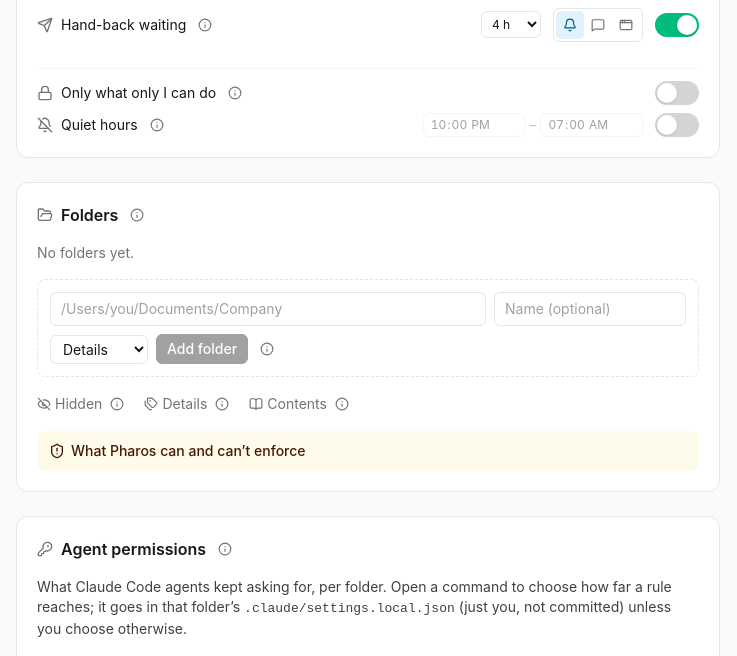
Test: folders › adds a folder with a level and shows the Claude Code rule to copy
(page scrolled)
Check: the text "No folders yet." is shown, box [37,244,134,261]
Type "/Users/me/Company" into the field named "Folder path" at [268, 309], box [50,292,486,326]
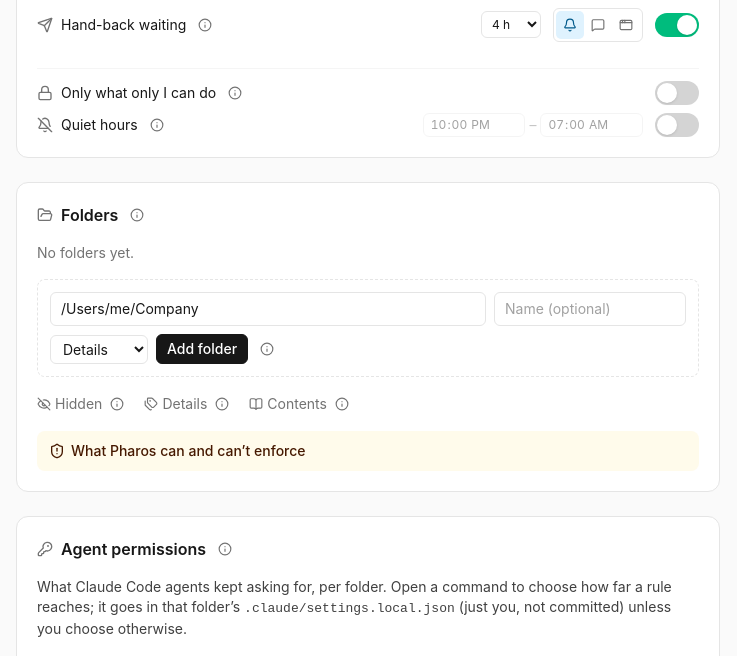
Select "Hidden" in the dropdown named "What agents see in the new folder" at [99, 349], box [50,335,148,364]
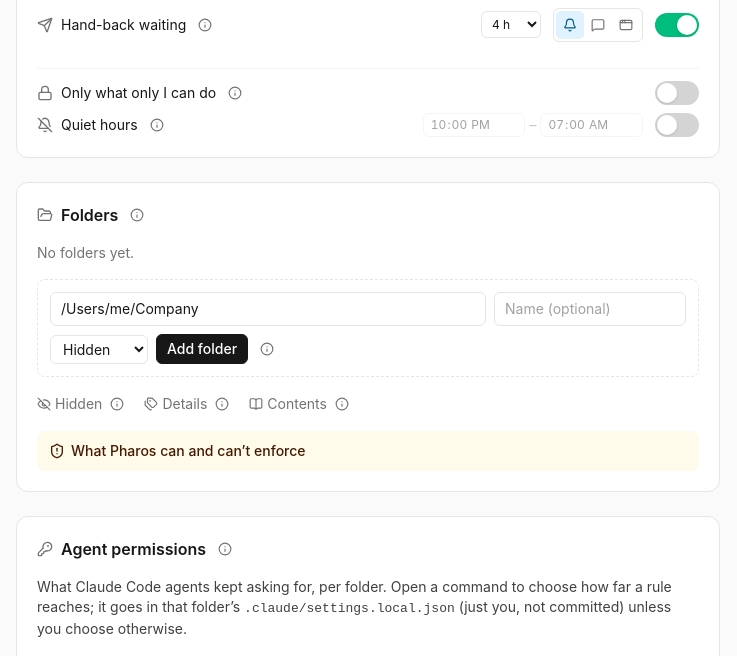
Click the button "Add folder" at [202, 349], box [156,334,248,364]
(page scrolled)
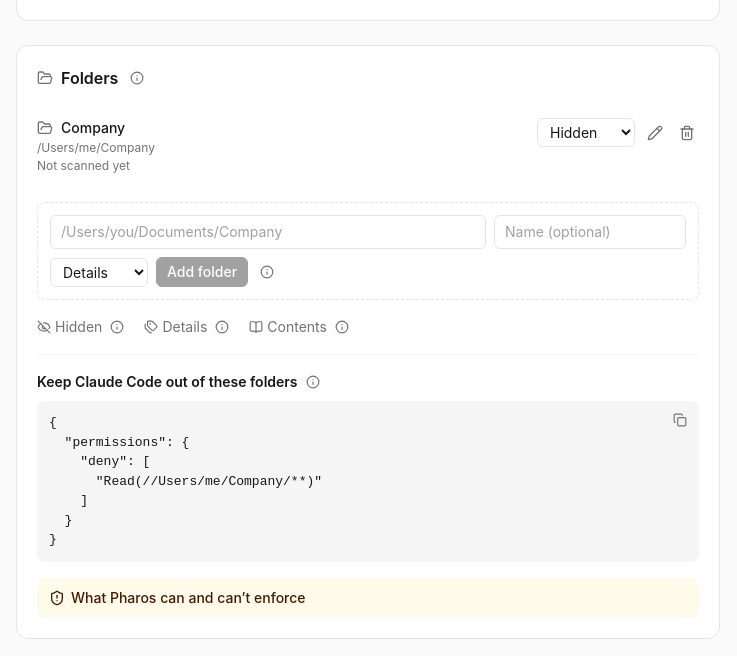
Check: the list item "Company" is shown, box [37,106,699,186]
Check: the button named "Copy deny rules" is shown, box [669,409,691,431]
